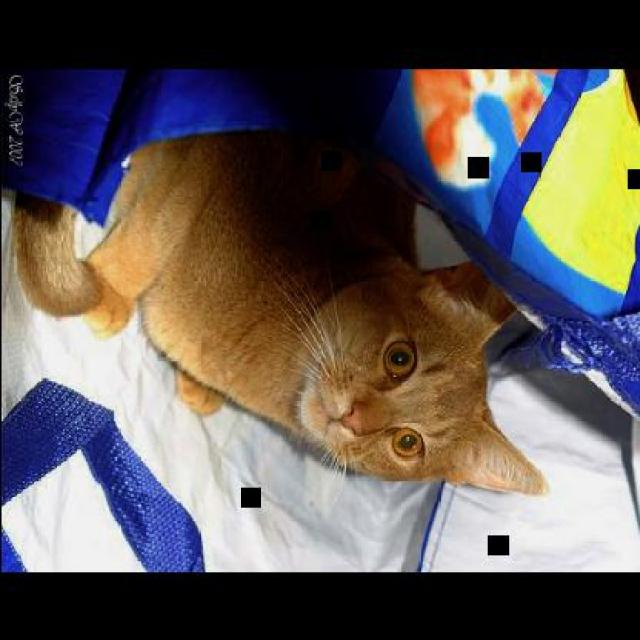unauthorized: (9, 126, 549, 497)
